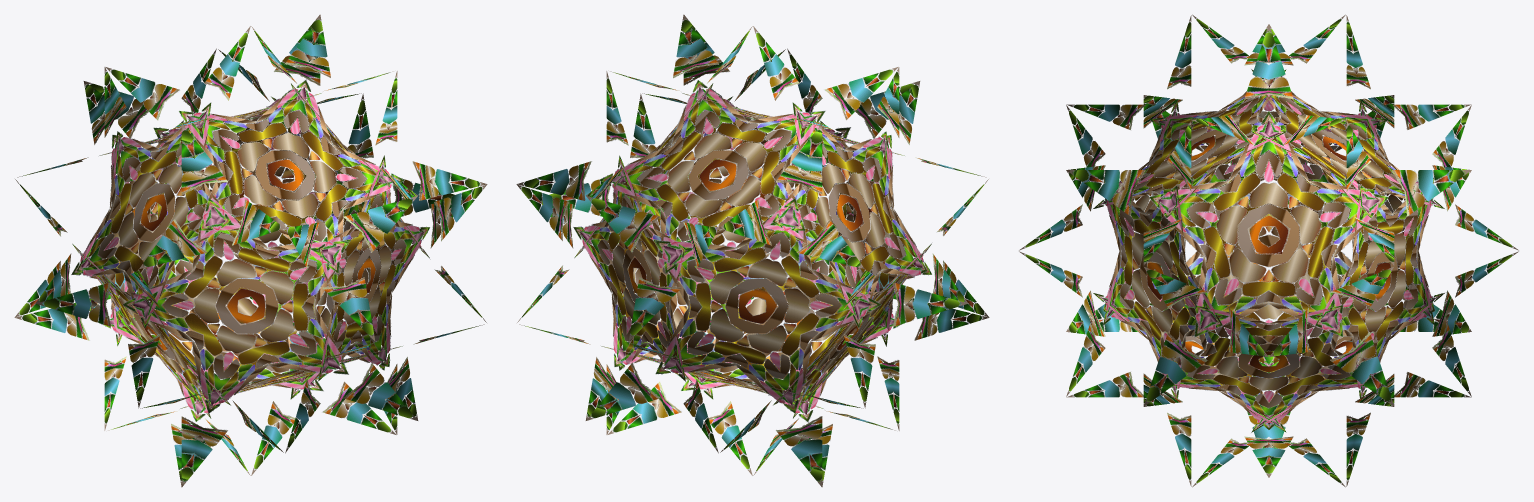
Rendered from GreatIcosidodecahedron15.gltf.
The picture shows the model from 3 angles, left to right: view 1: azimuth 30°, elevation 25°; view 2: azimuth 150°, elevation 25°; view 3: azimuth 270°, elevation 25°; orthographic projection.
Visible parts, largest first — view 1: GreatIcosidodecahedron15; view 2: GreatIcosidodecahedron15; view 3: GreatIcosidodecahedron15.
Part boxes in pixels (left/top/right/bottom): GreatIcosidodecahedron15: left=14, top=14, right=487, bottom=487; GreatIcosidodecahedron15: left=516, top=14, right=989, bottom=487; GreatIcosidodecahedron15: left=1019, top=14, right=1518, bottom=487.
Bounding box in the file's own units: 1.24 × 1.24 × 1.24.
Materials: 1 (1 with a texture image).
